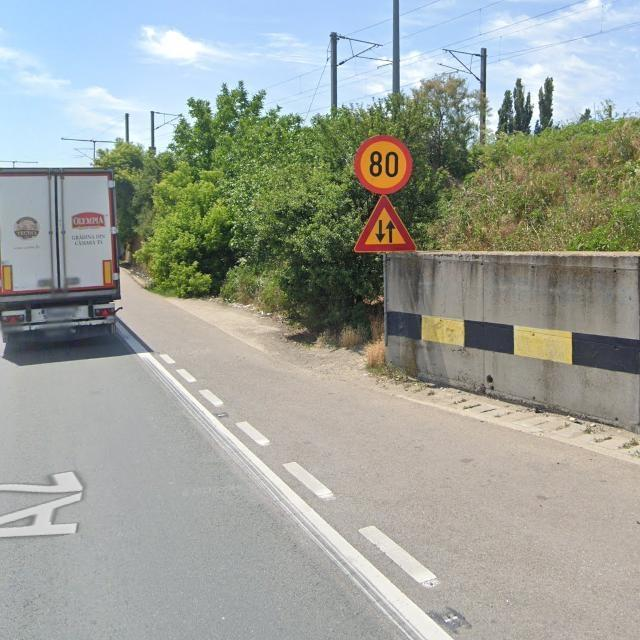forb_speed_over_80: (354, 135, 413, 195)
